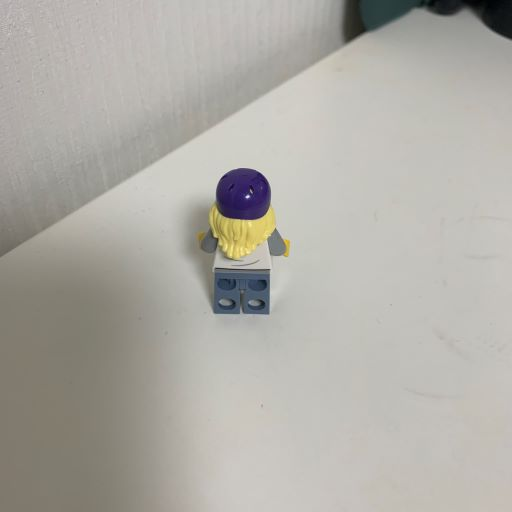human: (185, 164, 299, 321)
